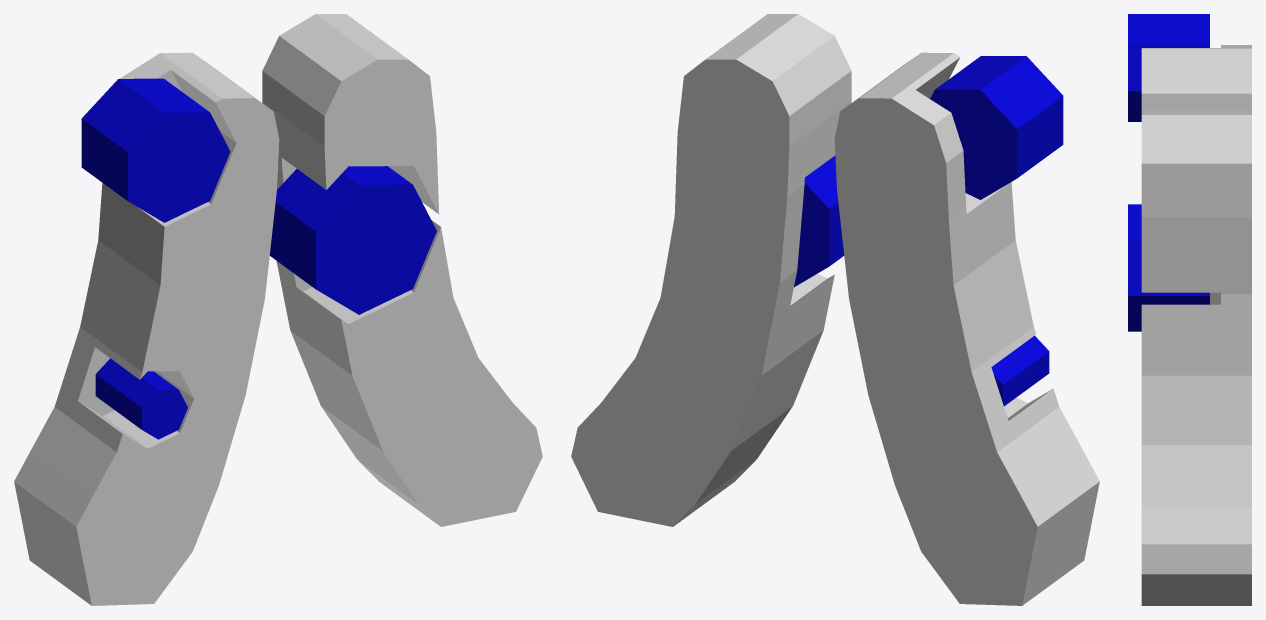
The model's file is Ch_Lite_China_八_01.fbx.
3 views of the same model, side by side, from view 1: azimuth 30°, elevation 25°; view 2: azimuth 150°, elevation 25°; view 3: azimuth 270°, elevation 25° (orthographic). The views are drawn at different scales.
Parts seen in each view (by area): view 1: sphere1; view 2: sphere1; view 3: sphere1.
Part boxes in pixels (<box>): sphere1: <box>14,14,542,605</box>; sphere1: <box>571,14,1099,605</box>; sphere1: <box>1128,14,1251,605</box>.
Size of the model in its own units: 0.8662 by 0.8801 by 0.2242.
